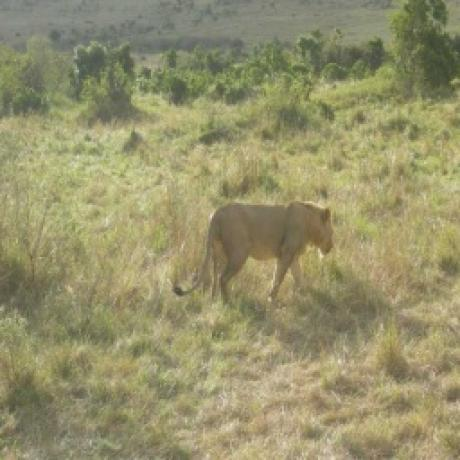Lion: (174, 198, 337, 302)
